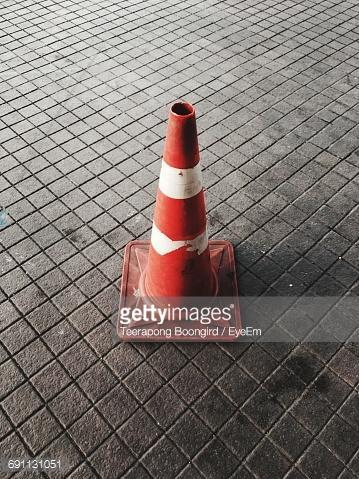Cone: (115, 100, 244, 342)
